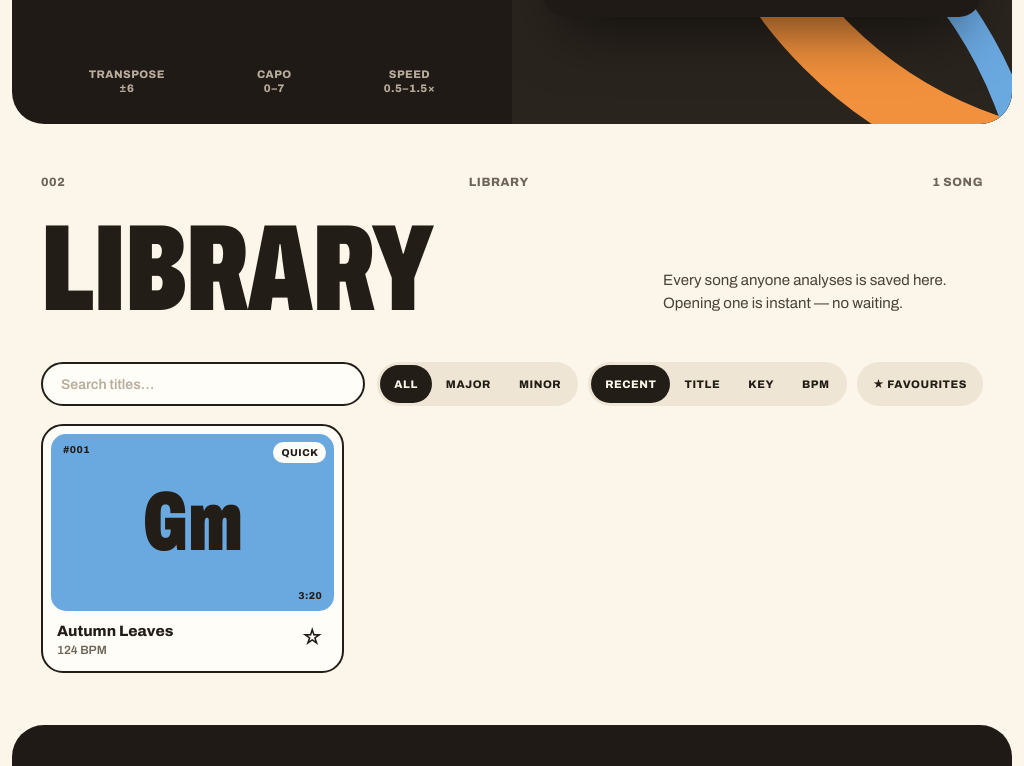
HomePage library › shows a no-matches message when the filter matches nothing
(page scrolled)
Expected: the link with aria-label "autumn leaves" is shown, [51, 434, 334, 612]
Step 1. Type "zzz" into the search field named "search songs" → (203, 384), box [41, 362, 365, 406]
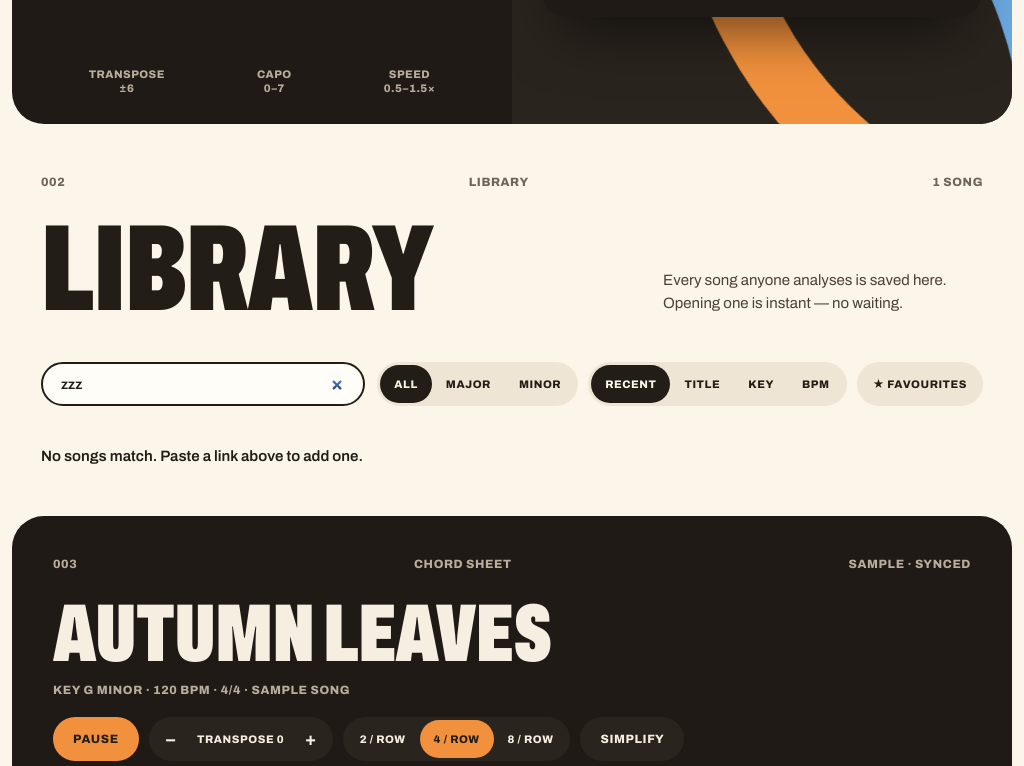
Now the text "No songs match. Paste a link above to add one." is shown, box [41, 448, 363, 464]
